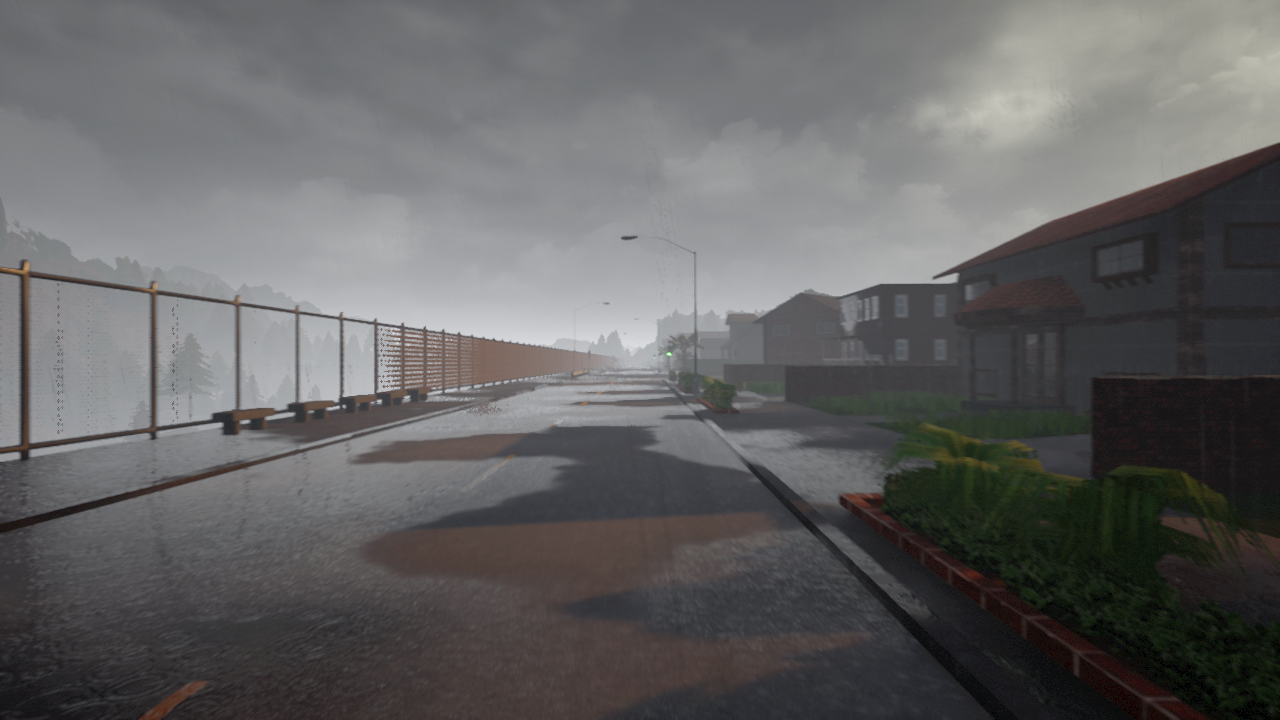green: (666, 345, 672, 357)
